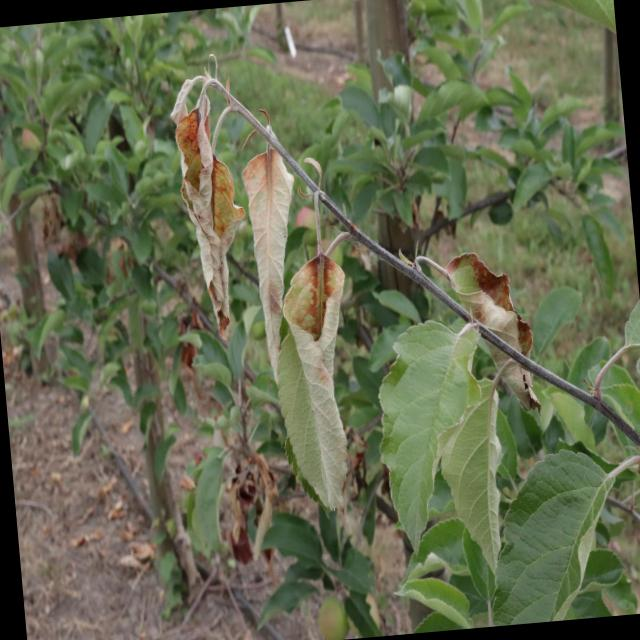-FireBlight-: (168, 69, 286, 361), (451, 255, 549, 403)
